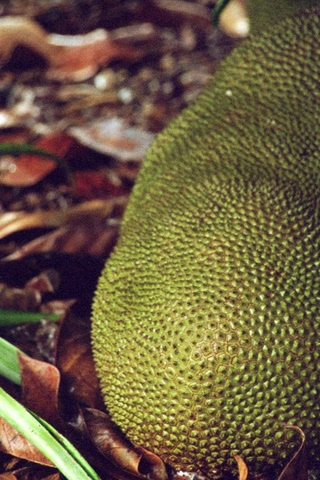jackfruit: (89, 2, 318, 477)
